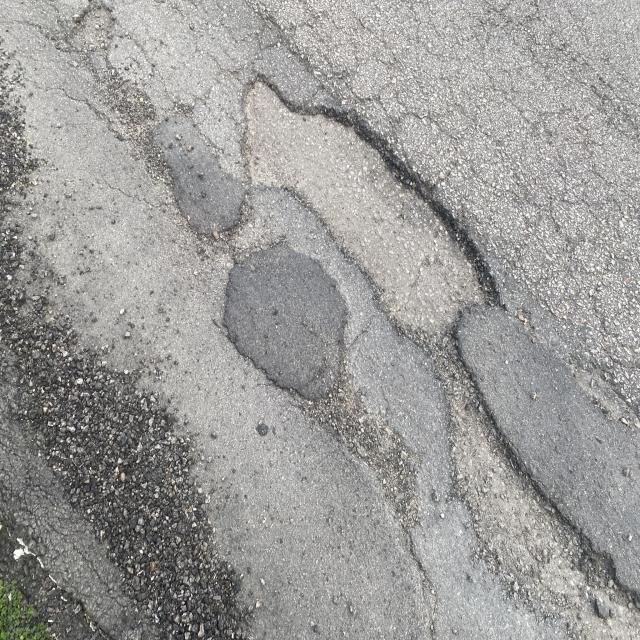pothole: (198, 53, 550, 393)
